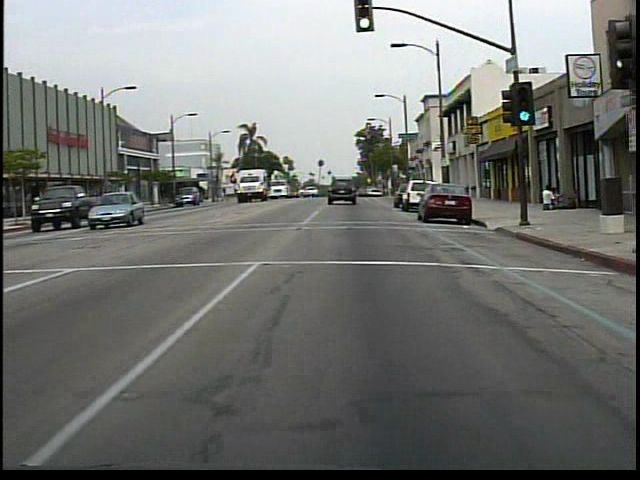person: (537, 183, 555, 212)
